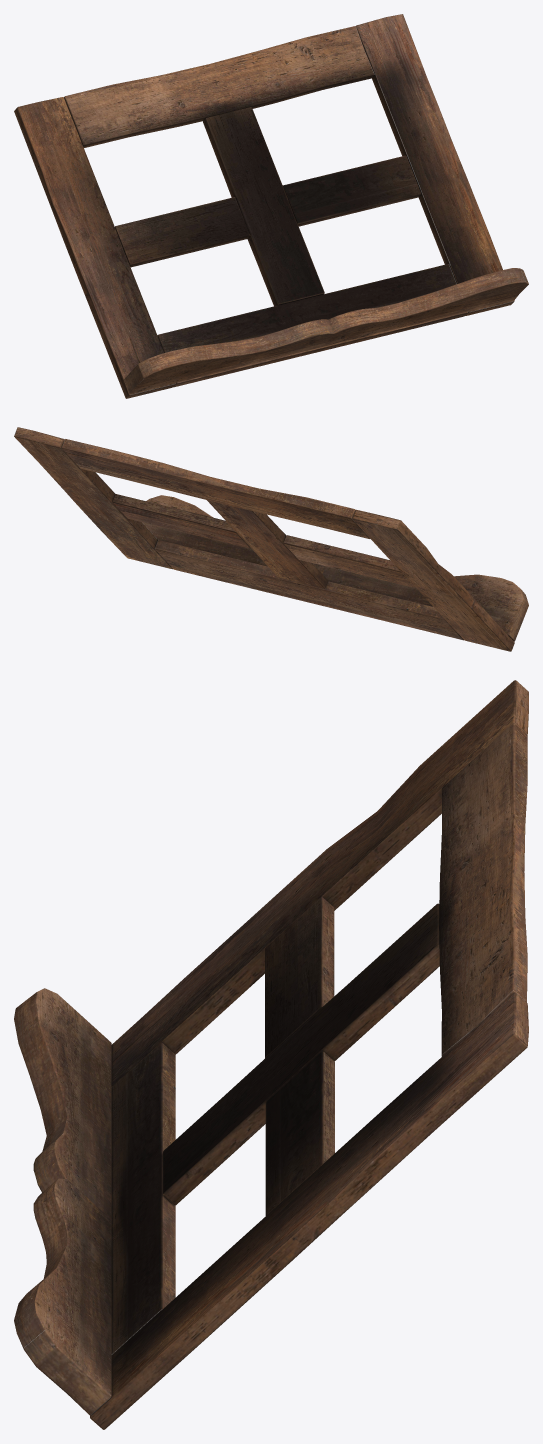
The model's file is Leggio.gltf.
The picture shows the model from 3 angles, top to bottom: view 1: azimuth 30°, elevation 25°; view 2: azimuth 150°, elevation 25°; view 3: azimuth 270°, elevation 25°; orthographic projection. The views are drawn at different scales.
Parts seen in each view (by area): view 1: Leggio_tex.001_Cube.005; view 2: Leggio_tex.001_Cube.005; view 3: Leggio_tex.001_Cube.005.
Boxes of the visible parts, x1,y1,x2,y2 form: Leggio_tex.001_Cube.005: (14, 14, 528, 398); Leggio_tex.001_Cube.005: (14, 427, 528, 651); Leggio_tex.001_Cube.005: (14, 680, 528, 1429).
Bounding box in the file's own units: 0.3591 × 0.1876 × 0.22.
Materials: 1 (1 with a texture image).
